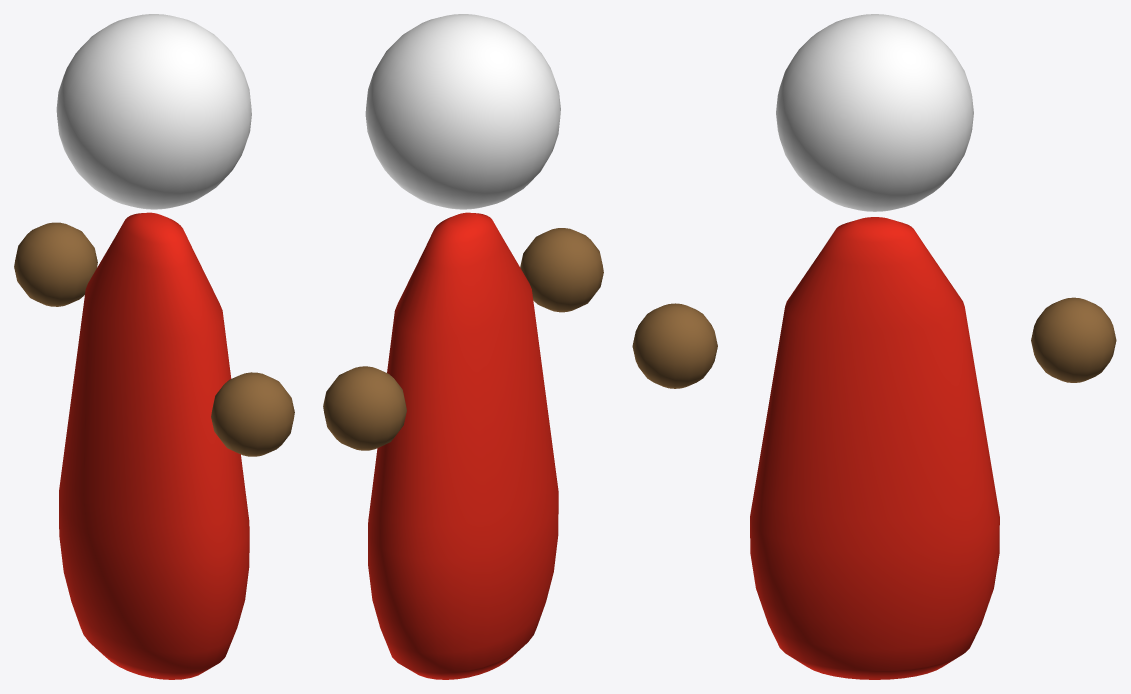
The model's file is PlayerModell.glb.
3 views of the same model, side by side, from view 1: azimuth 30°, elevation 25°; view 2: azimuth 150°, elevation 25°; view 3: azimuth 270°, elevation 25° (orthographic).
Visible parts, largest first — view 1: Cylinder, Sphere, Sphere.001, Sphere.002; view 2: Cylinder, Sphere, Sphere.002, Sphere.001; view 3: Cylinder, Sphere, Sphere.001, Sphere.002.
Part boxes in pixels (x1,y1,x2,y2): Cylinder: (59,212,249,679); Sphere: (56,14,251,209); Sphere.001: (211,372,294,456); Sphere.002: (14,222,97,306); Cylinder: (368,212,558,679); Sphere: (365,14,560,209); Sphere.002: (323,366,406,450); Sphere.001: (520,228,603,312); Cylinder: (750,217,999,679); Sphere: (776,14,973,211); Sphere.001: (632,303,717,388); Sphere.002: (1031,297,1116,382).
Size of the model in its own units: 1.42 by 5.03 by 3.47.
